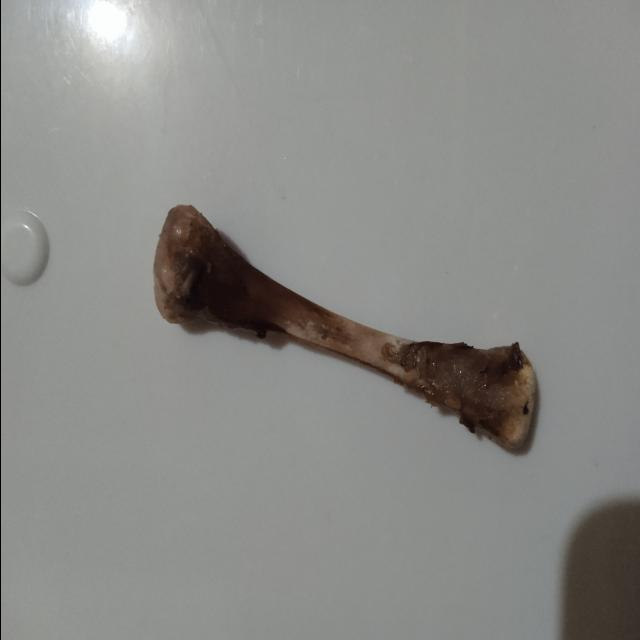bone: (142, 194, 544, 460)
